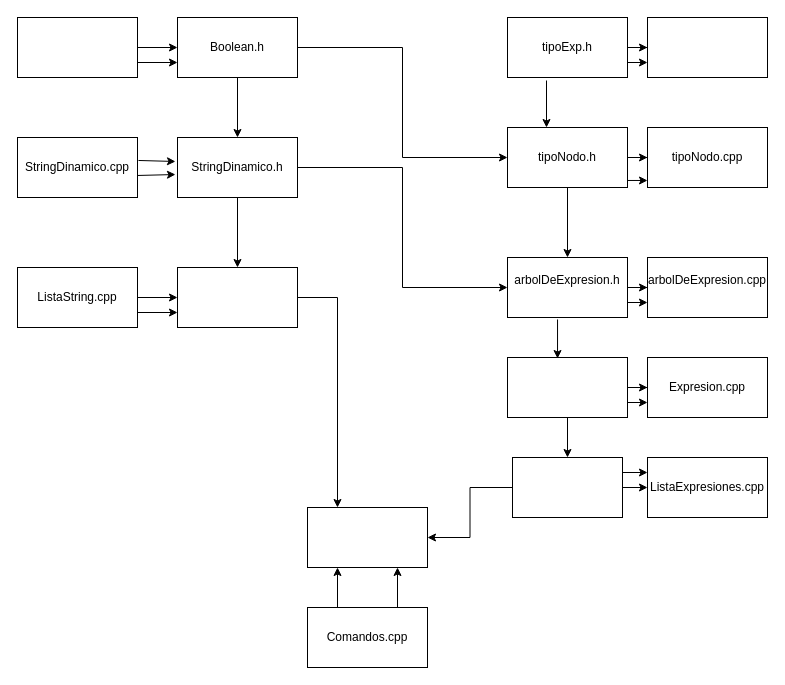
Some shapes in this 785 by 685 pixel diagram are drawn without their labels. Here are the shapes that lost their labels. From the top down, the box of each, then its label:
(16, 16, 138, 78): Boolean.cpp
(646, 16, 768, 78): tipoExp.cpp
(176, 266, 298, 328): ListaString.h
(506, 356, 628, 418): Expresion.h
(512, 456, 622, 518): ListaExpresiones.h
(306, 506, 428, 568): Comandos.h
